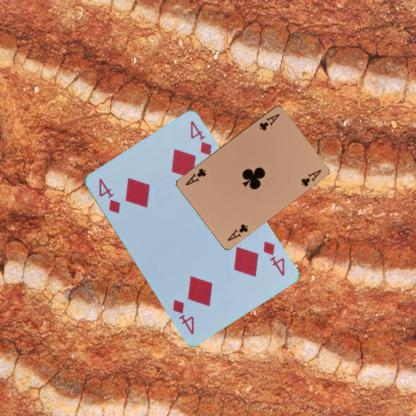4d: (96, 176, 122, 215), (260, 238, 286, 277)
Ac: (256, 110, 281, 132), (224, 221, 249, 242)
